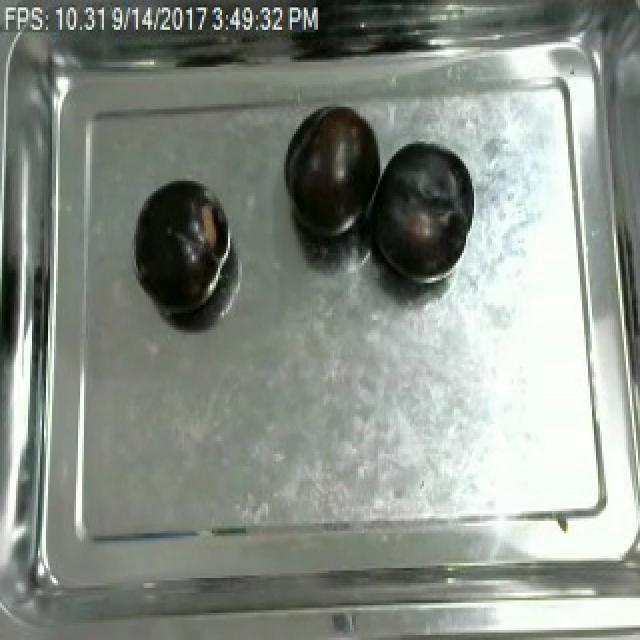Fruit: (358, 136, 478, 288), (284, 99, 386, 241), (130, 174, 226, 315)
